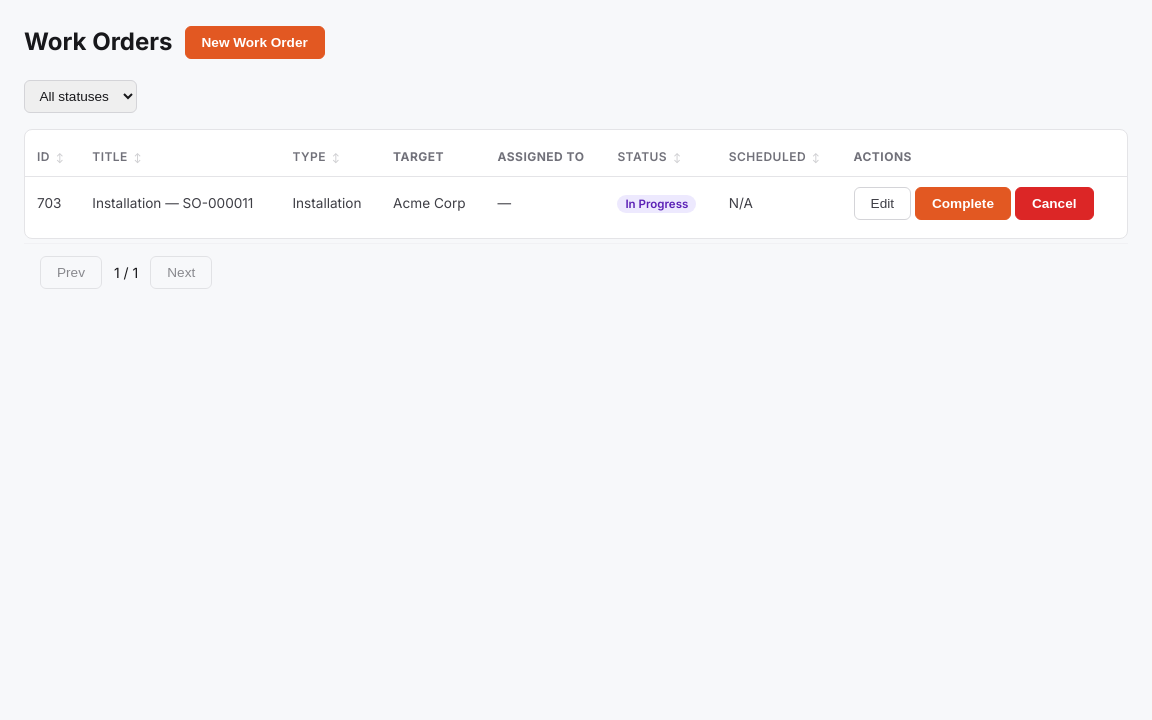
Test case: WorkOrders — legal documents panel › lists pending documents on an expanded installation WO and opens the sign modal with the frozen text
Step 1. Click the text "Installation — SO-000011" → (180,203), box [80,176,280,230]
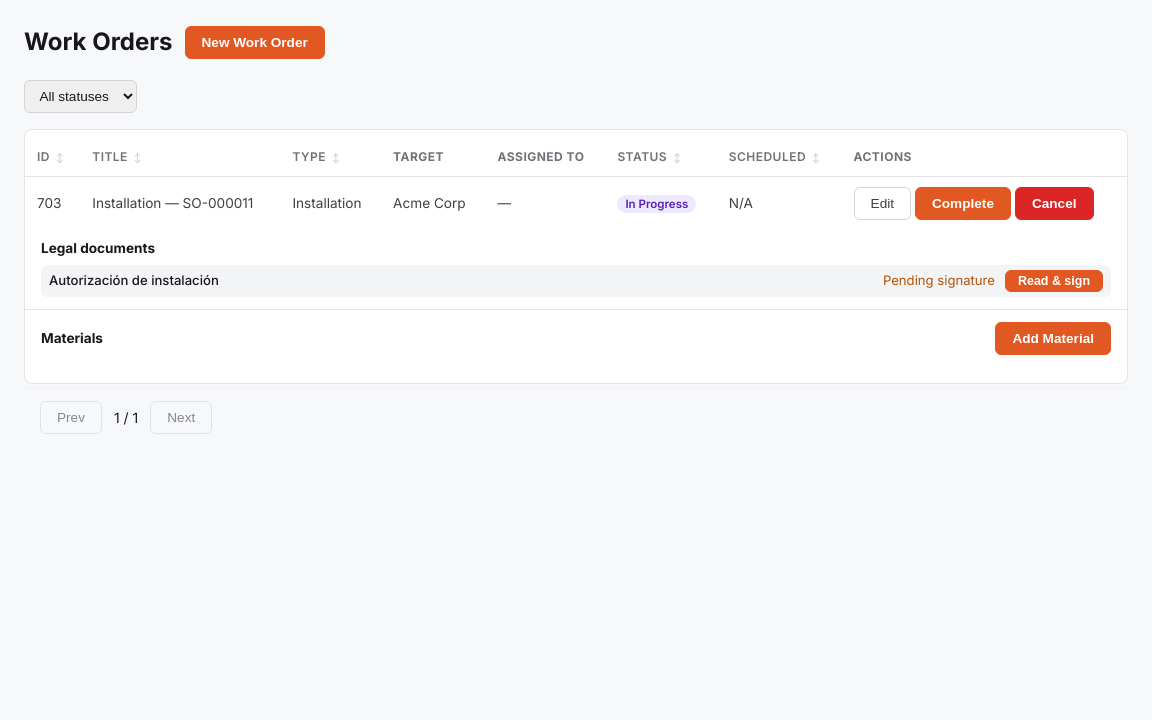
Check: the text "Autorización de instalación" is shown, box [49,272,219,288]
Check: the text "Pending signature" is shown, box [883,271,995,291]
Step 2. Click the button "Read & sign" → (1054,281), box [1005,270,1103,292]
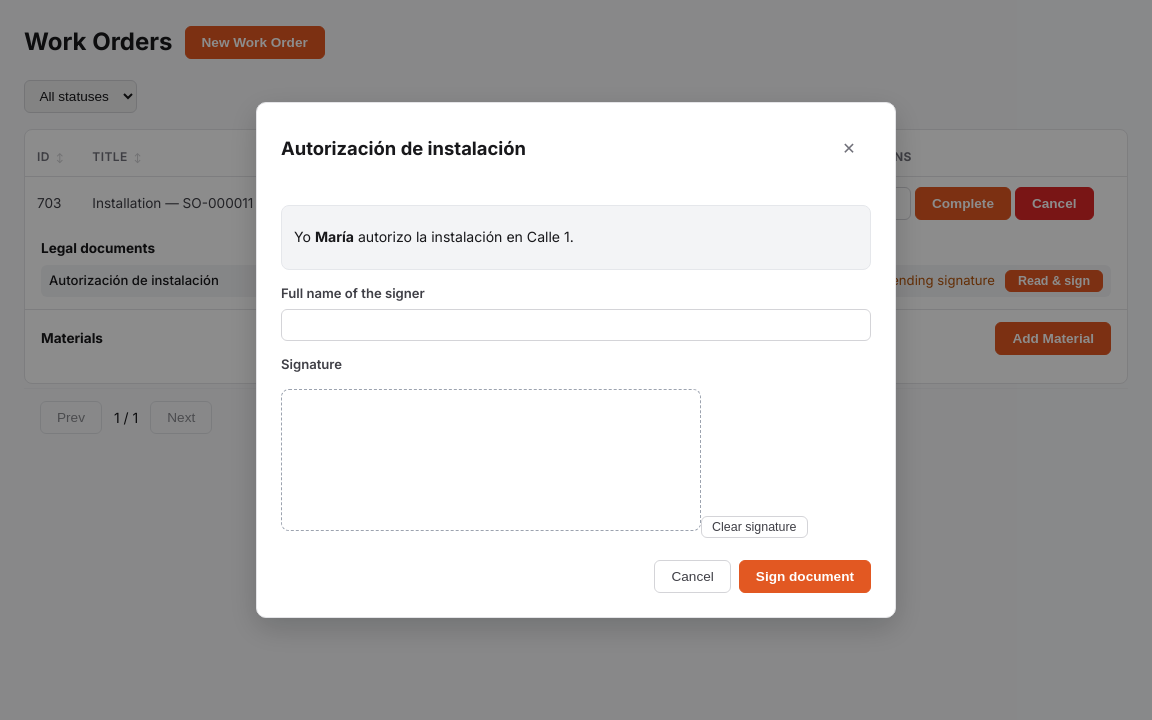
Check: the text "Yo María autorizo la instalación en Calle 1." is shown, box [294,228,574,245]
Check: the button "Sign document" is shown, box [739,560,871,593]
